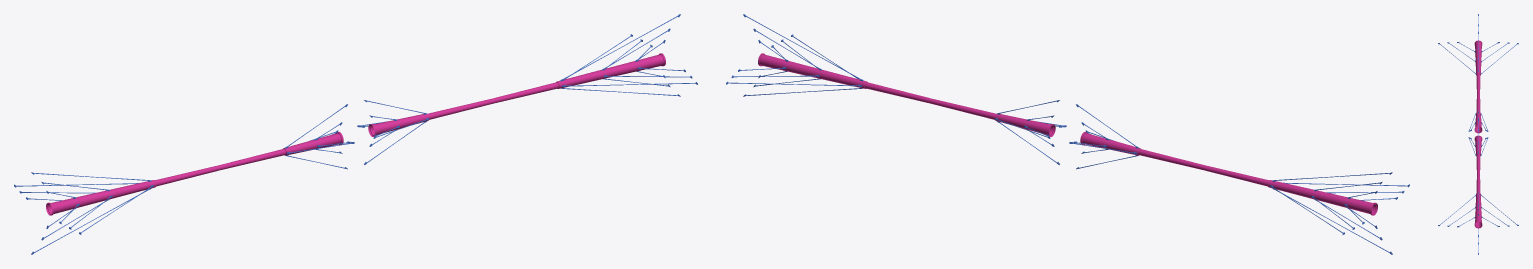
File: station_spokes_2-10k.dae
3 renders of one model, left to right at view 1: azimuth 30°, elevation 25°; view 2: azimuth 150°, elevation 25°; view 3: azimuth 270°, elevation 25°, orthographic. The views are drawn at different scales.
Visible parts, largest first — view 1: spoke, strut_proced_015, strut_proced_000; view 2: spoke, strut_proced_015, strut_proced_000; view 3: spoke, strut_proced_000, strut_proced_015.
Part boxes in pixels (x1=…): spoke: x1=46, y1=53, x2=665, y2=215; strut_proced_015: x1=14, y1=104, x2=354, y2=254; strut_proced_000: x1=357, y1=14, x2=697, y2=164; spoke: x1=758, y1=53, x2=1377, y2=215; strut_proced_015: x1=1069, y1=104, x2=1409, y2=254; strut_proced_000: x1=726, y1=14, x2=1066, y2=164; spoke: x1=1474, y1=40, x2=1482, y2=228; strut_proced_000: x1=1438, y1=117, x2=1518, y2=254; strut_proced_015: x1=1438, y1=14, x2=1518, y2=131.
Size of the model in its own units: 9728 by 1739 by 1176.
